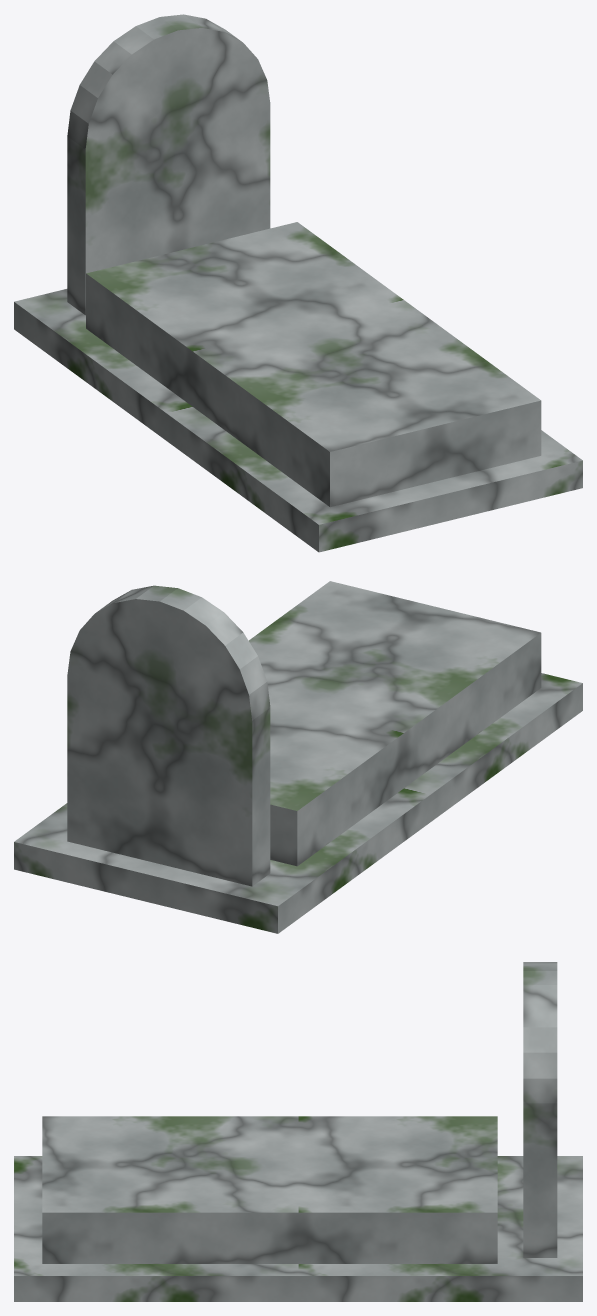
Rendered from tumba2.obj.
3 views of the same model, one above another, from view 1: azimuth 30°, elevation 25°; view 2: azimuth 150°, elevation 25°; view 3: azimuth 270°, elevation 25° (orthographic). The views are drawn at different scales.
Visible parts, largest first — view 1: tumba2; view 2: tumba2; view 3: tumba2.
Boxes of the visible parts, x1,y1,x2,y2 form: tumba2: (14,14,582,552); tumba2: (14,581,582,933); tumba2: (14,962,582,1301).
Bounding box in the file's own units: 1 × 1.05 × 2.
Materials: 1 (1 with a texture image).
